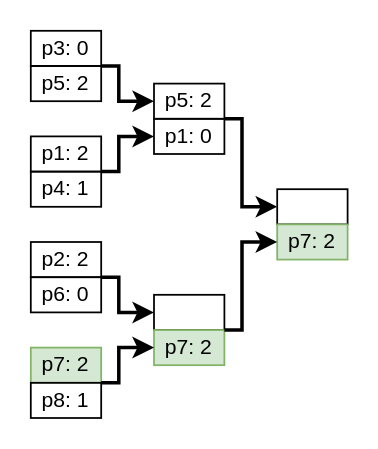
Some shapes in this 378 by 449 pixel diagram are drawn without their labels. Here are the shapes that lost their labels. From the top down, the centre of each, then its label:
At (311,205): "p5: 0".
At (188,311): "p2: 1".
